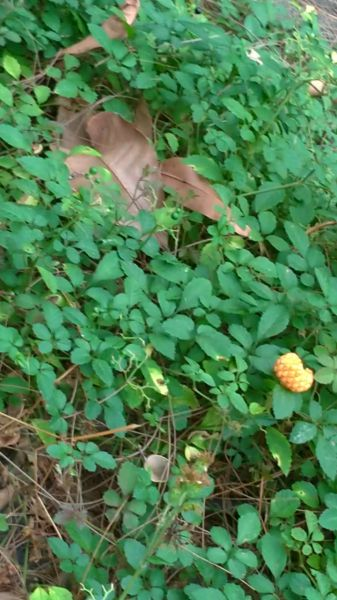eggs: (270, 349, 319, 399)
